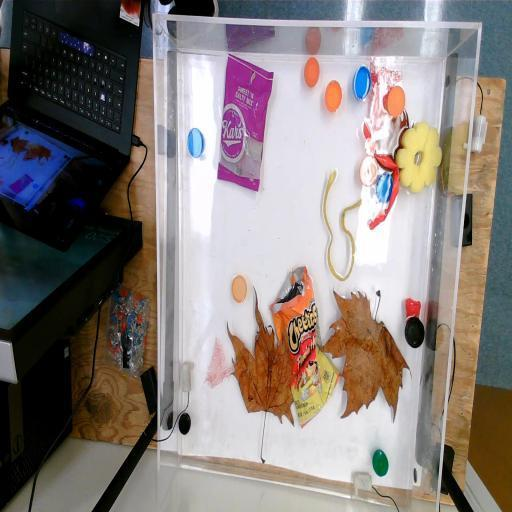Bottle Cap: (386, 84, 406, 120), (324, 78, 343, 114), (405, 314, 424, 350), (352, 64, 370, 100), (186, 124, 205, 158), (372, 445, 390, 478), (360, 155, 378, 187), (376, 170, 394, 202), (231, 272, 248, 304), (304, 56, 320, 88), (178, 411, 192, 435)
Cone Cap: (405, 297, 421, 322)
Leaf: (320, 284, 413, 427), (226, 283, 296, 465), (374, 108, 416, 160)
Netting: (366, 60, 401, 140), (203, 334, 236, 392)
Plastic Bag: (268, 264, 340, 431), (216, 52, 274, 192)
Plastic Strand: (320, 168, 362, 284), (362, 120, 399, 231)
Sponge: (395, 120, 443, 194)
